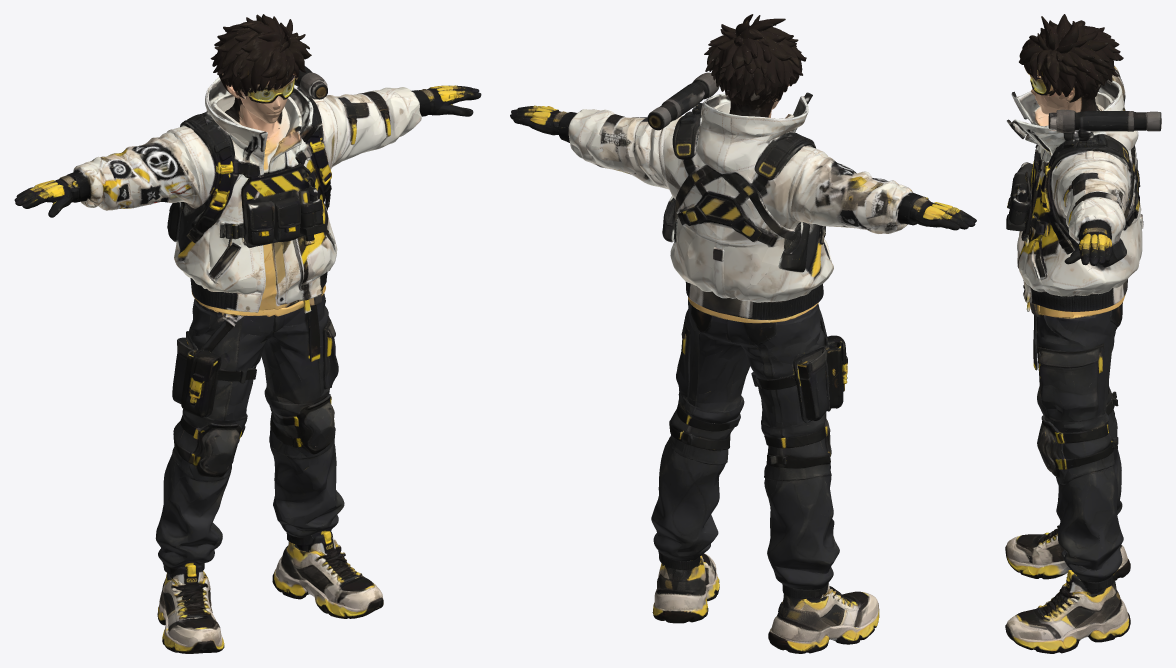
The model's file is main_character_v2.glb.
3 views of the same model, side by side, from view 1: azimuth 30°, elevation 25°; view 2: azimuth 150°, elevation 25°; view 3: azimuth 270°, elevation 25° (orthographic). The views are drawn at different scales.
Bounding box in the file's own units: 1.53 × 1.9 × 0.4575.
Materials: 1 (1 with a texture image).
